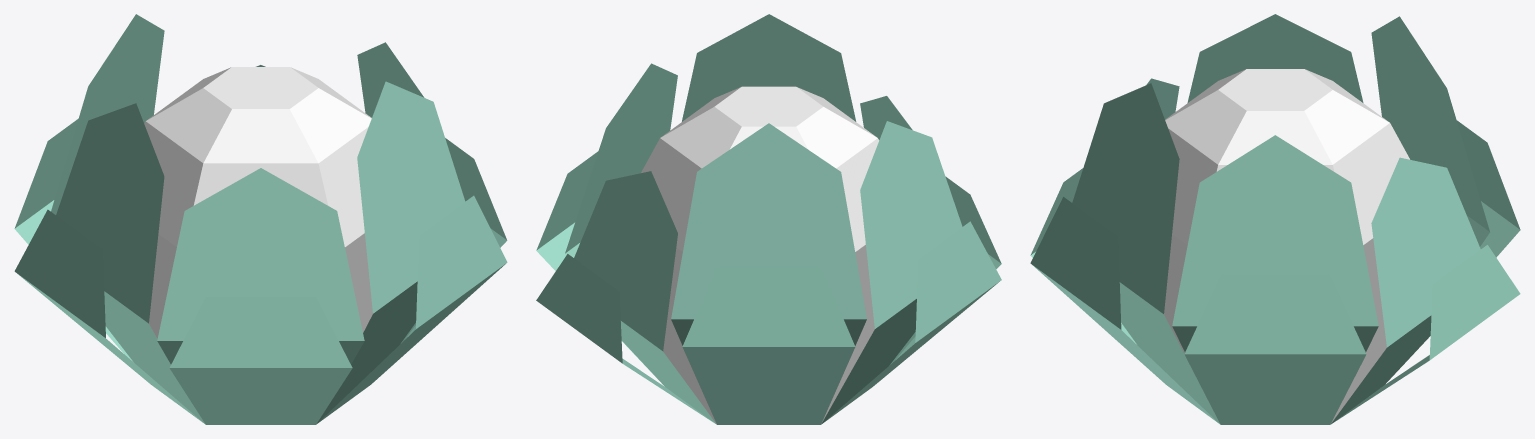
Rendered from cauliflower.glb.
The picture shows the model from 3 angles, left to right: view 1: azimuth 30°, elevation 25°; view 2: azimuth 150°, elevation 25°; view 3: azimuth 270°, elevation 25°; orthographic projection. The views are drawn at different scales.
Visible parts, largest first — view 1: cauliflower; view 2: cauliflower; view 3: cauliflower.
Boxes of the visible parts, x1,y1,x2,y2 form: cauliflower: (14,14,507,424); cauliflower: (536,14,1001,424); cauliflower: (1030,14,1520,424).
Bounding box in the file's own units: 0.141 × 0.1142 × 0.15.
